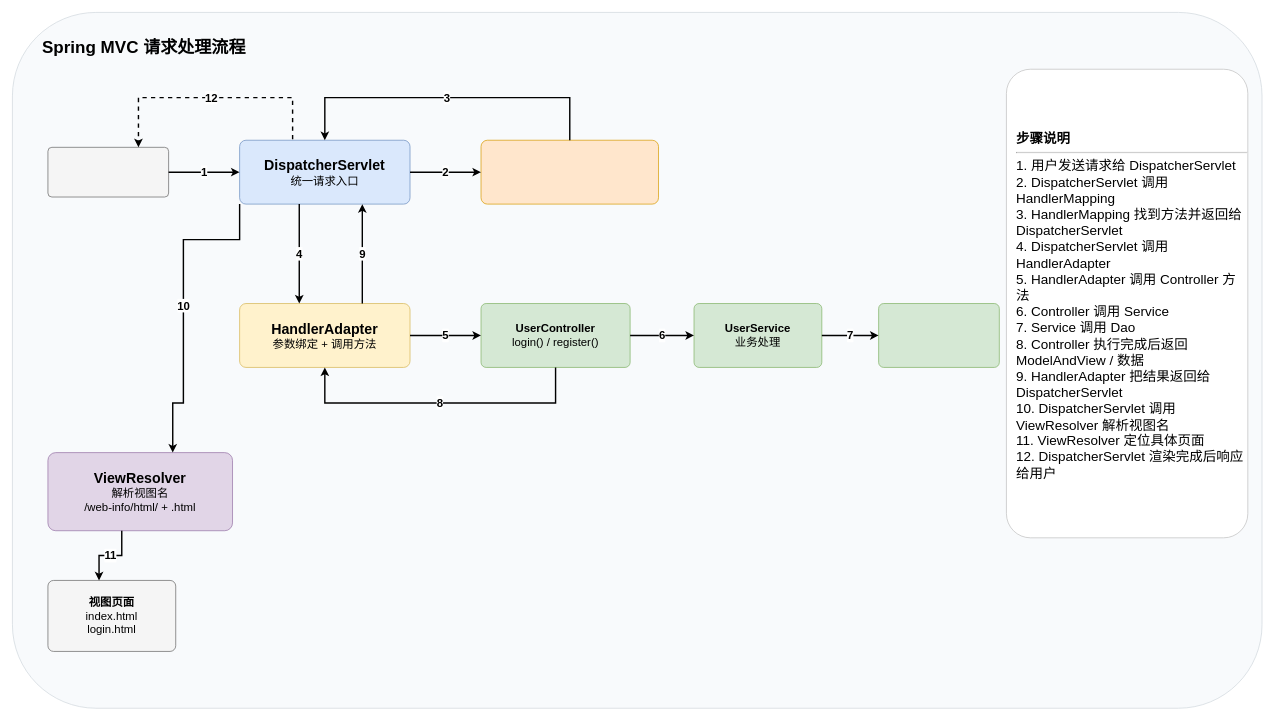
Some shapes in this 1274 by 721 pixel diagram are drawn without their labels. Each missing label, with the centre of its shape:
HandlerMapping 查找 handler 方法: the point at 569,172
UserDao 数据访问: the point at 938,335
用户 / 浏览器: the point at 108,172
